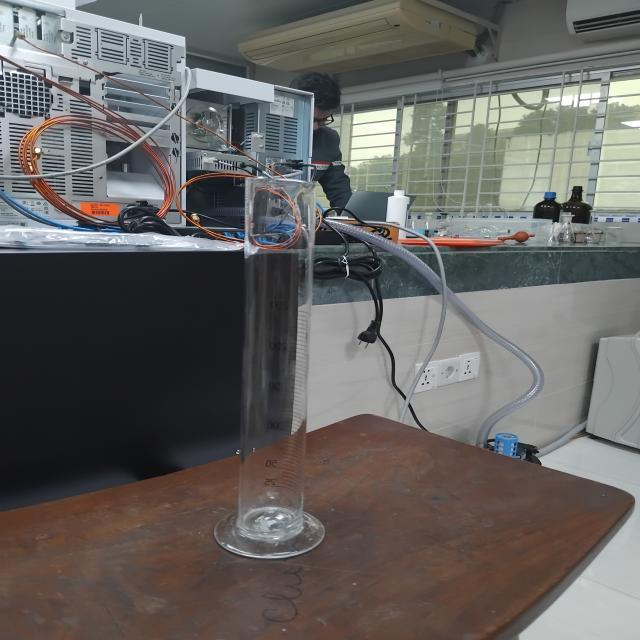Measuring_Cylinder: (179, 136, 377, 600)
